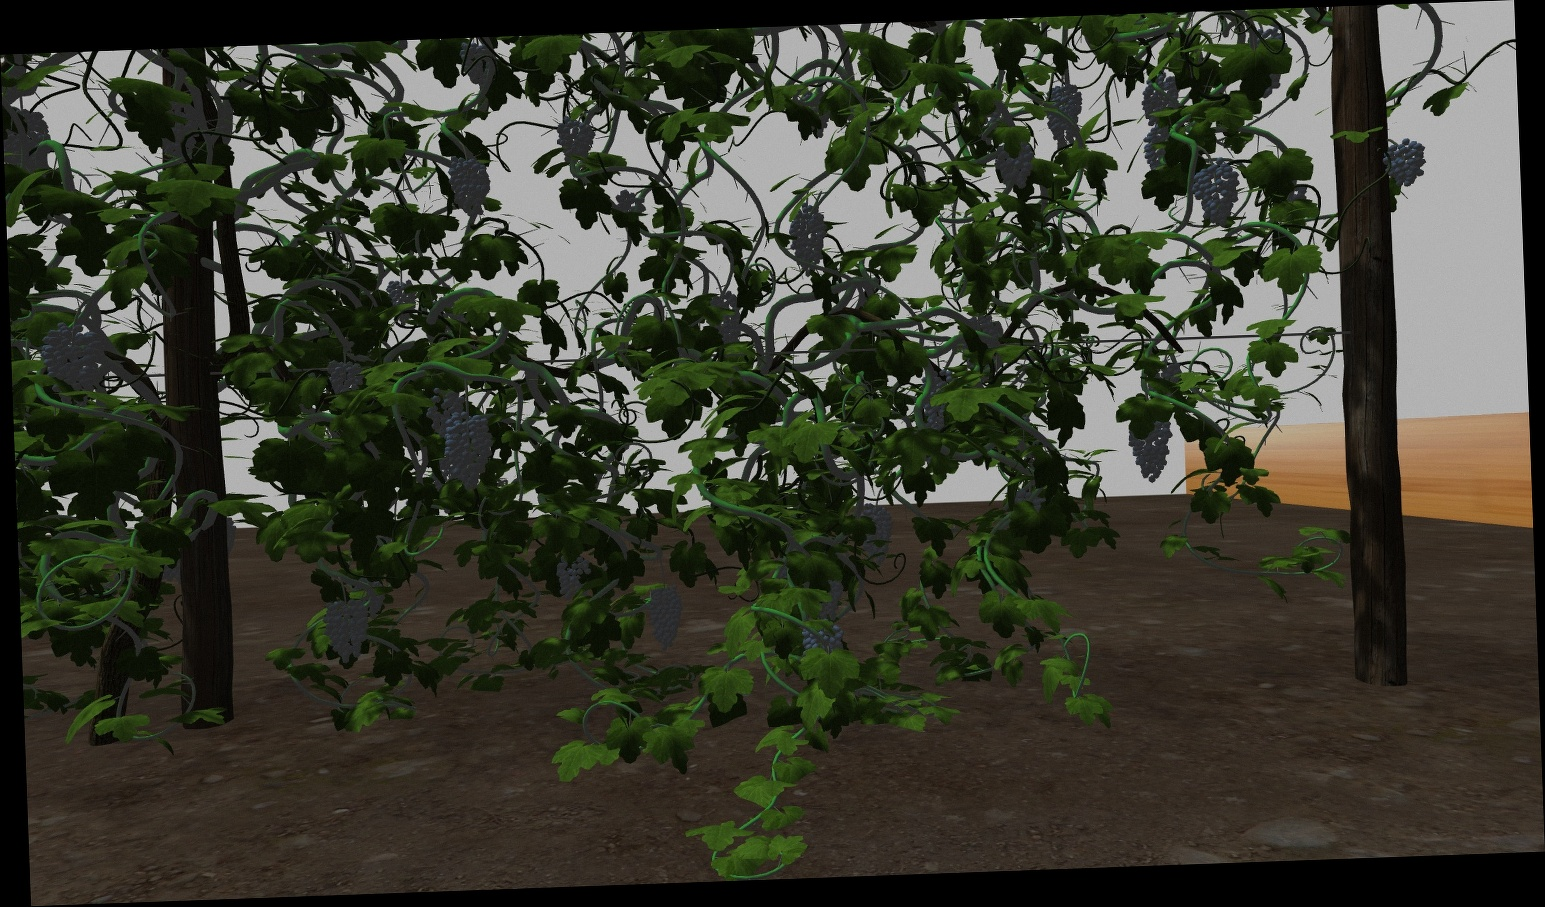grape: (39, 321, 106, 390), (443, 412, 494, 493), (1127, 407, 1174, 487), (1188, 160, 1241, 228), (322, 599, 370, 665), (6, 106, 52, 174), (788, 205, 827, 277), (643, 584, 685, 652), (448, 155, 492, 218), (1045, 84, 1084, 143), (703, 290, 744, 346), (858, 503, 894, 566), (1381, 138, 1426, 186), (1141, 72, 1180, 126), (997, 140, 1036, 190), (556, 118, 596, 162), (556, 553, 591, 603), (426, 388, 462, 432), (459, 42, 493, 87), (385, 279, 416, 325), (801, 623, 845, 652), (327, 358, 362, 395)
